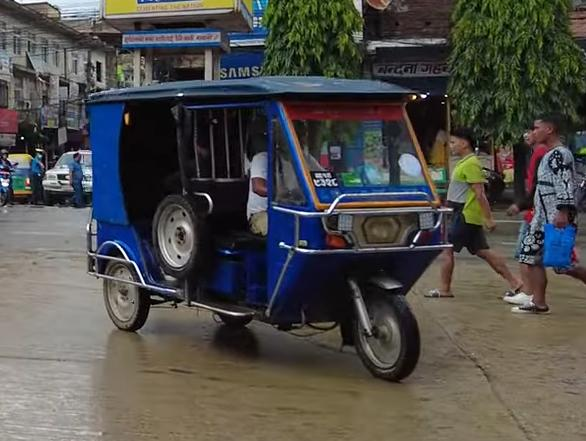e-rickshaw: (78, 73, 455, 383)
